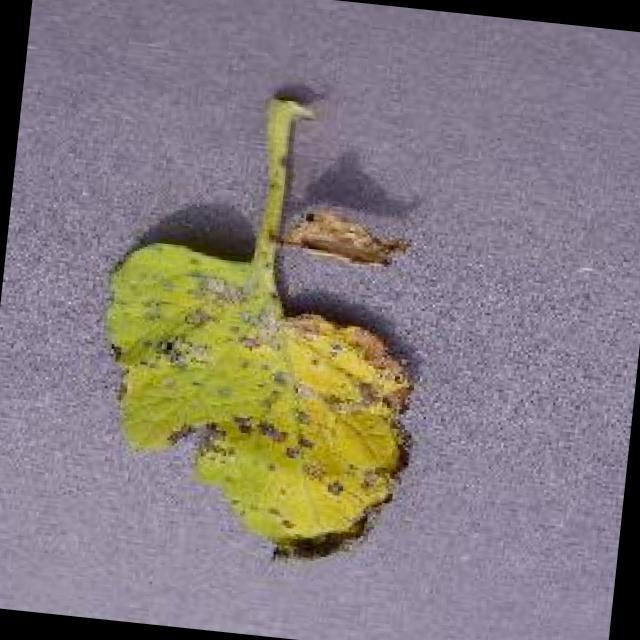Tomato Septoria spot leaf: (78, 231, 432, 578)
